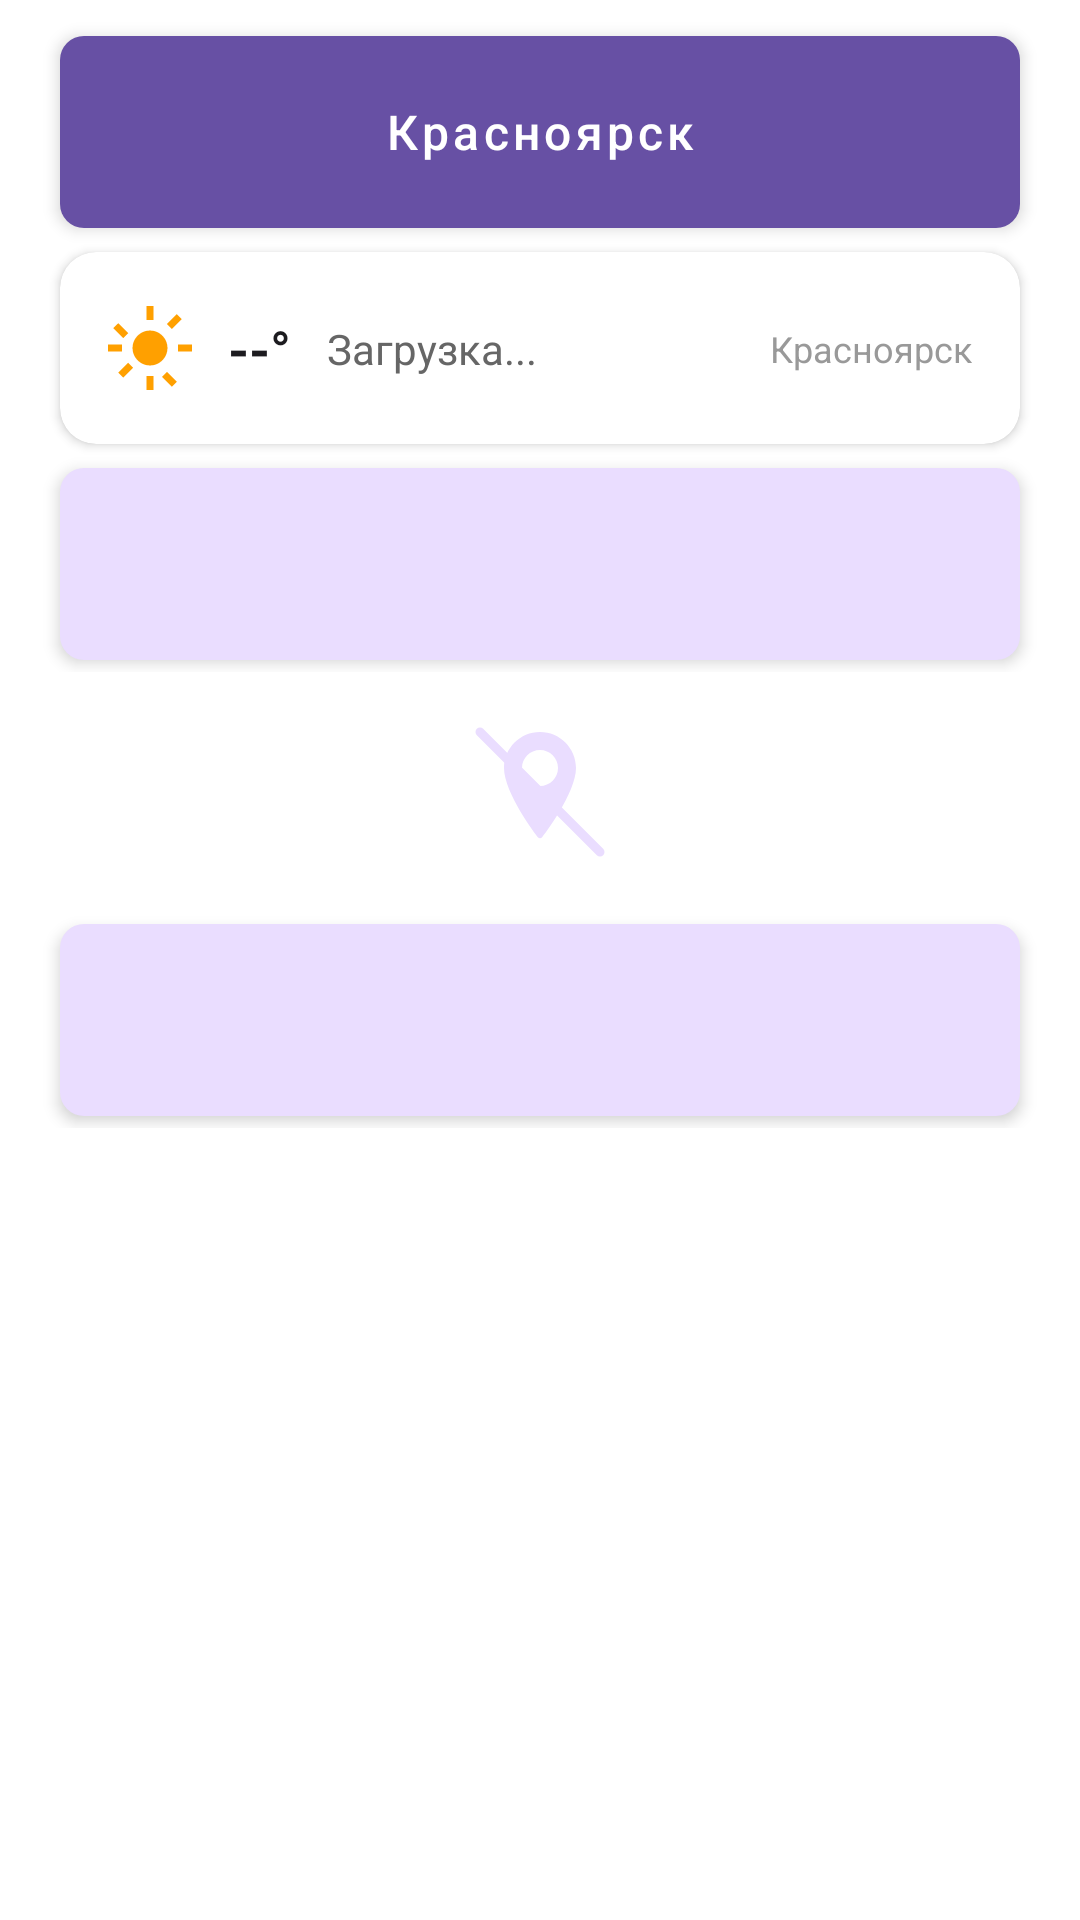

Screen size 1080px x 1920px. Icon name, then its box in pixels as (x1, y1, x2, y2):
location off: (476, 728, 604, 856)
sunny: (108, 306, 192, 390)
